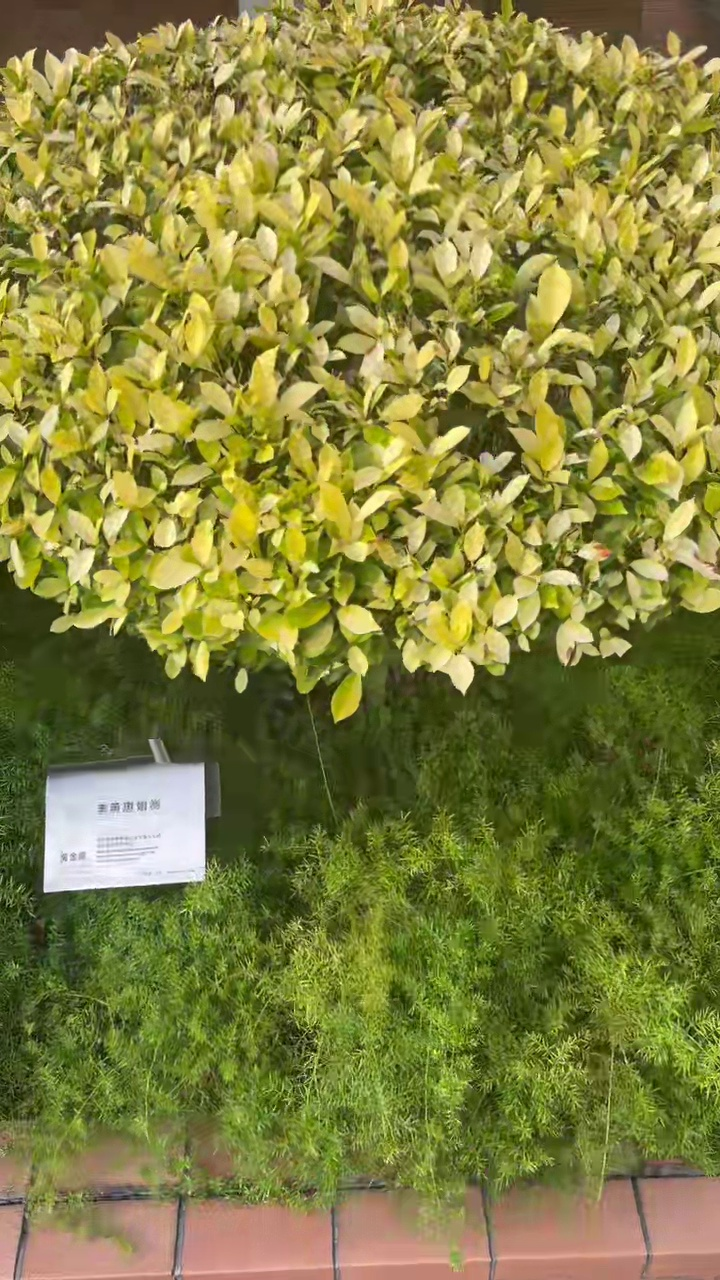Golden-leaves Fig: (0, 0, 719, 721)
